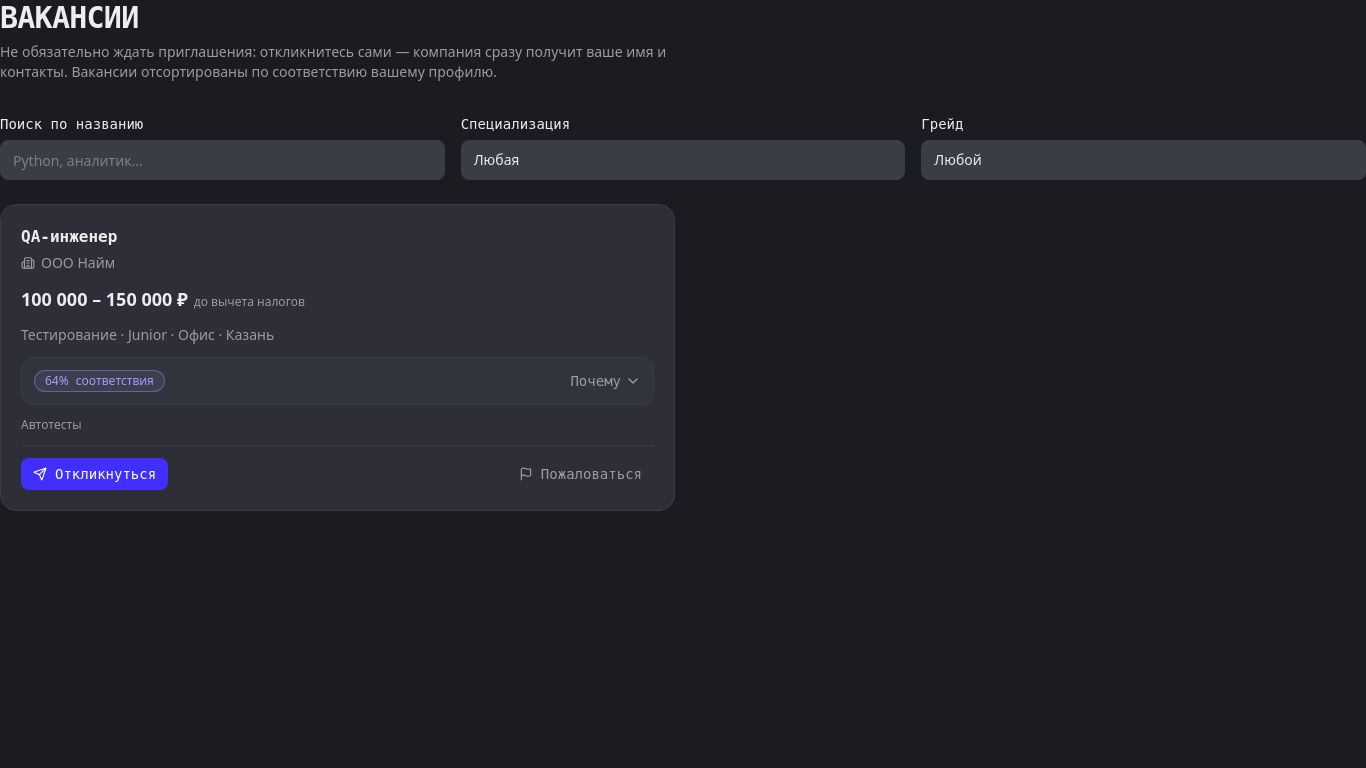
Scenario: candidate contact flow › reports a suspicious vacancy to the moderator
The width and height of the screenshot is (1366, 768).
Click the button "Пожаловаться" at [580, 474], box [507, 458, 654, 490]
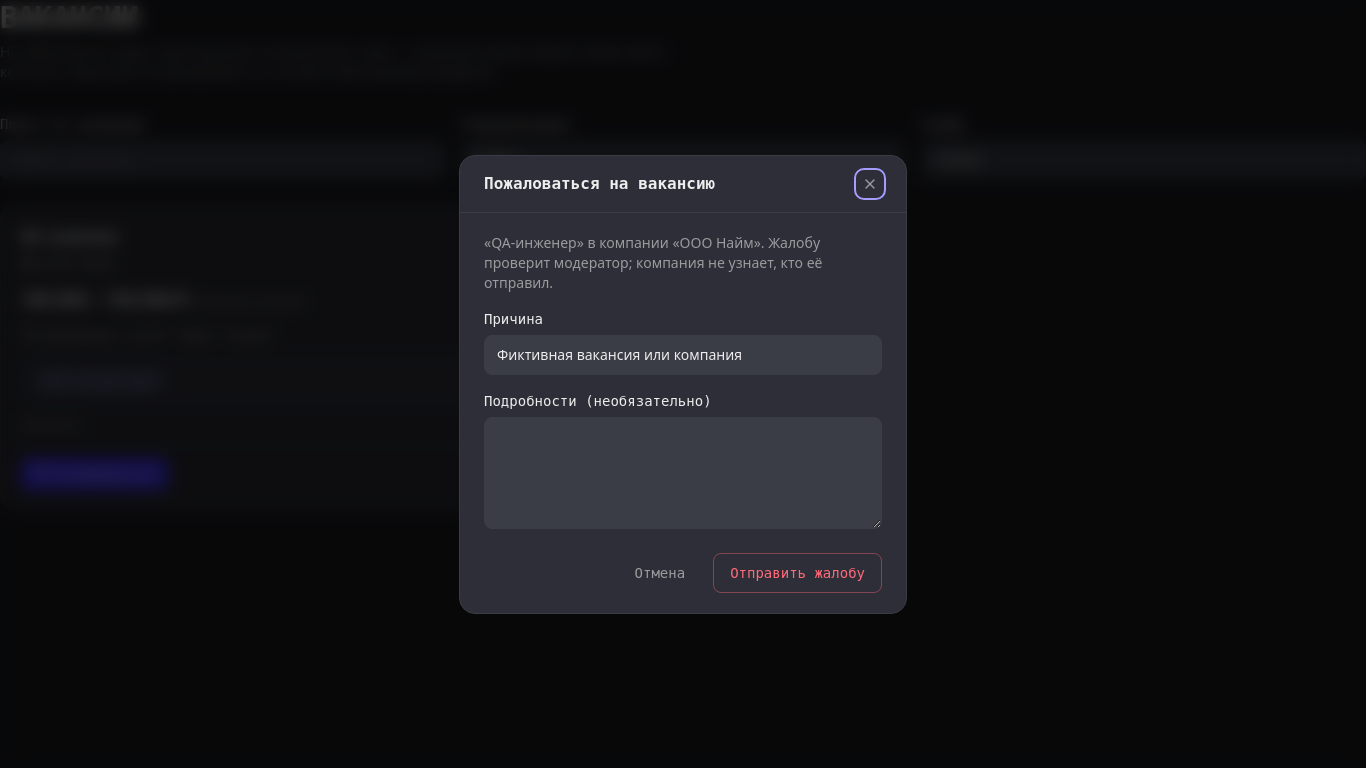
Select "Вилка не соответствует действительности" in the dropdown labelled "Причина" at [683, 354], box [484, 334, 882, 374]
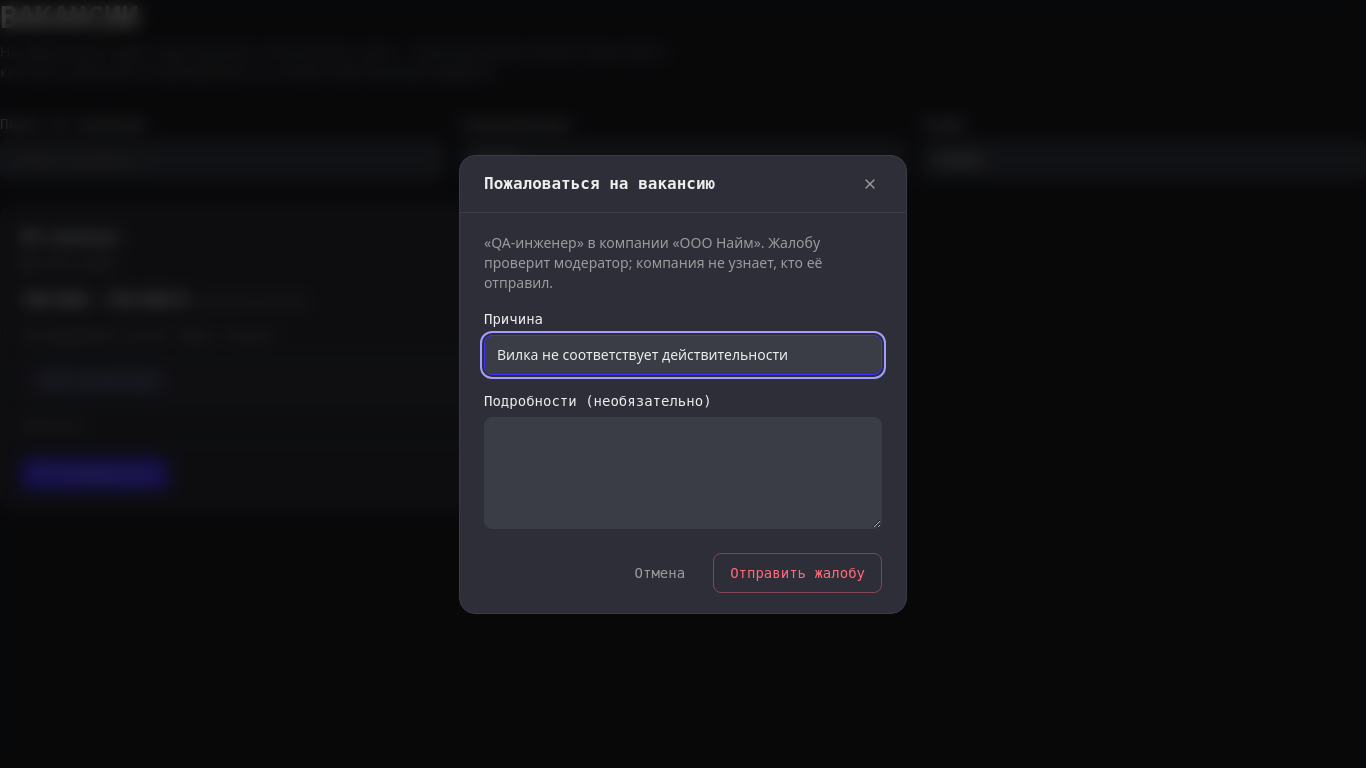
Type "В тексте другая сумма" into the text box labelled "Подробности (необязательно)" at [683, 472], box [484, 416, 882, 528]
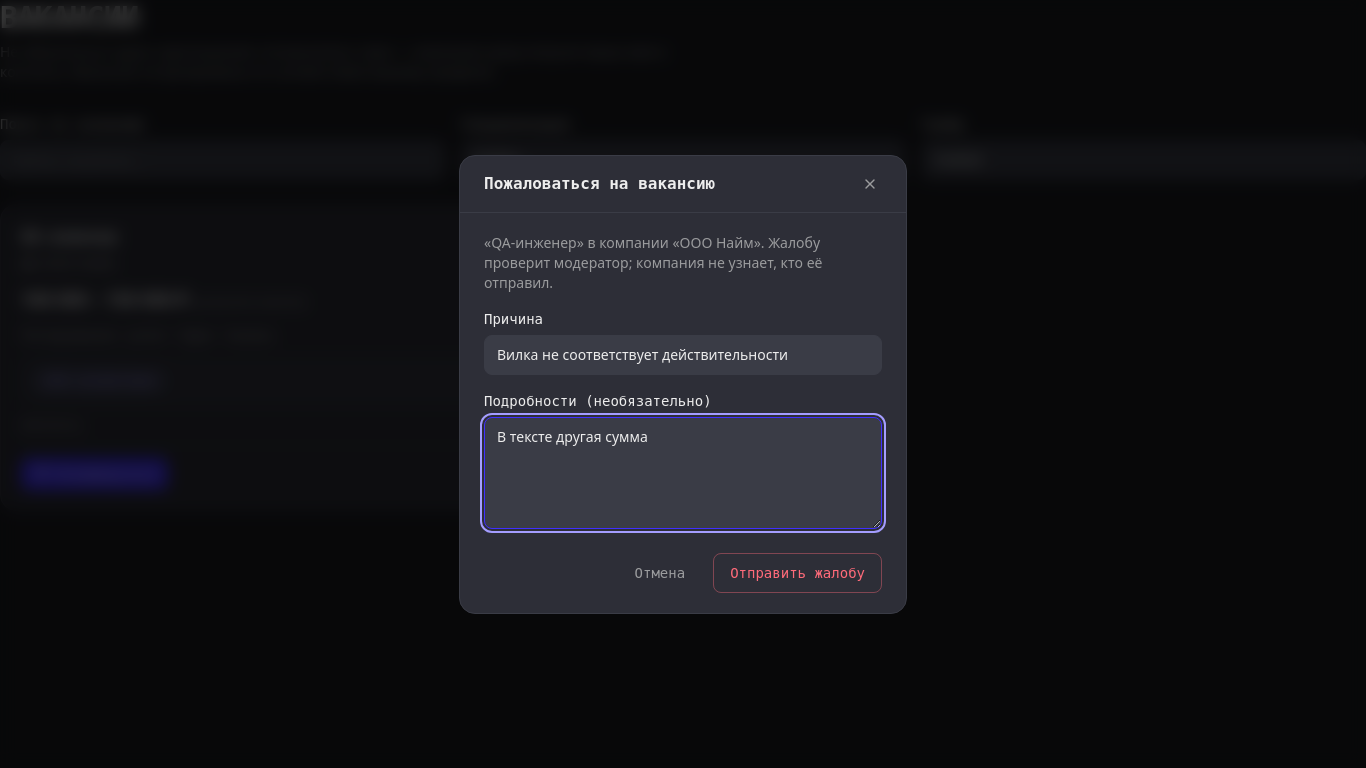
Click the button "Отправить жалобу" at [798, 572], box [713, 552, 882, 592]
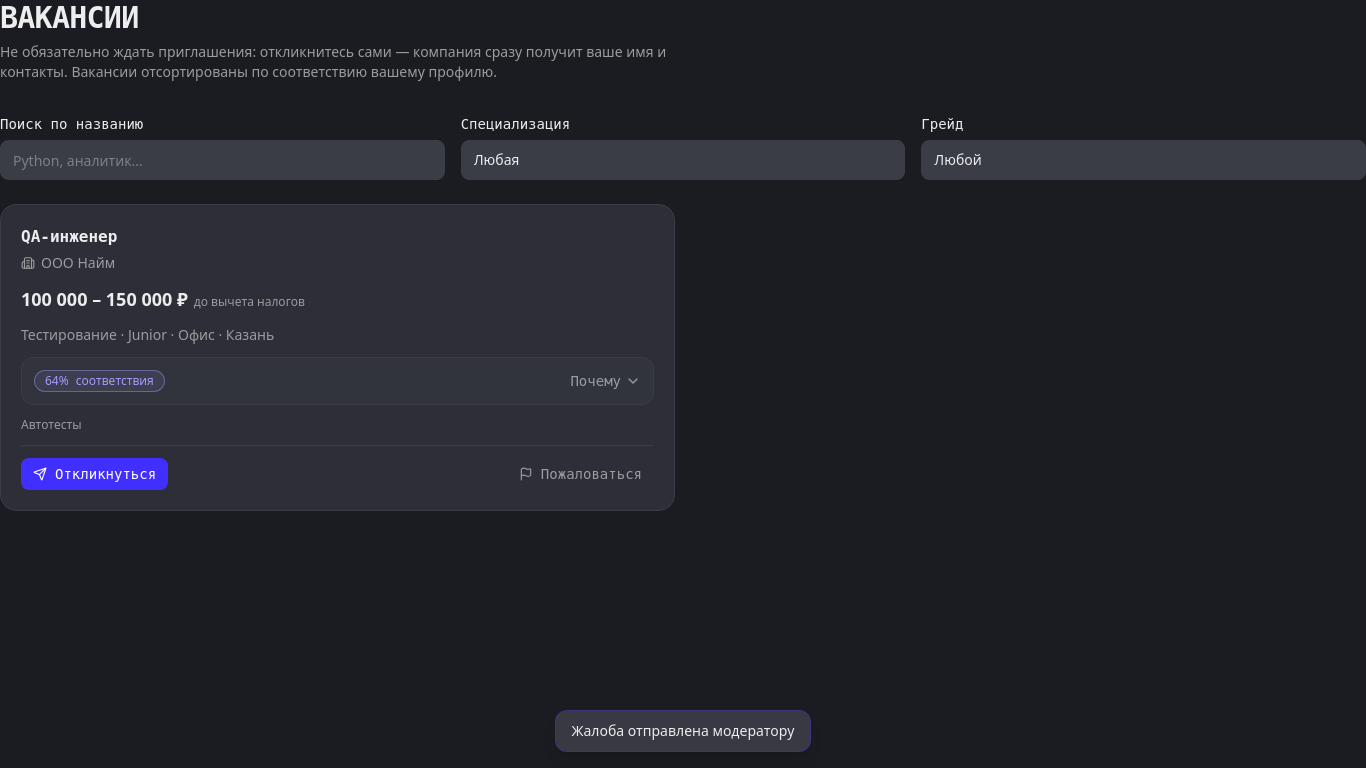
Expected: the text "Жалоба отправлена модератору" is shown, [554, 710, 811, 752]
